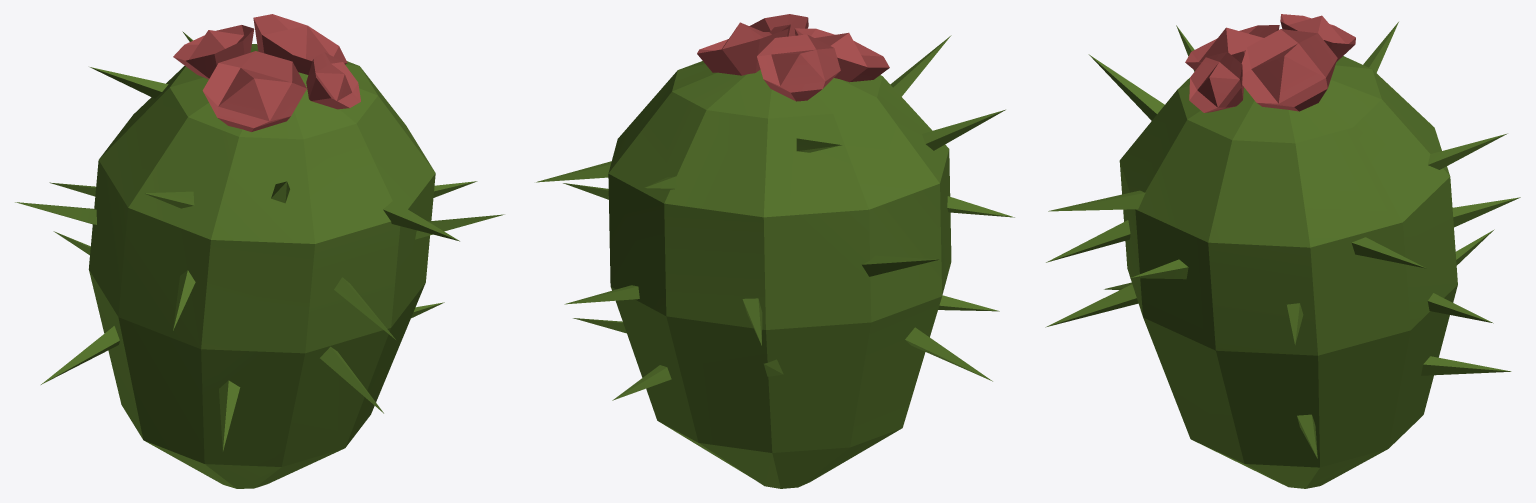
File: Desert_plant_012.glb
3 views of the same model, side by side, from view 1: azimuth 30°, elevation 25°; view 2: azimuth 150°, elevation 25°; view 3: azimuth 270°, elevation 25° (orthographic). The views are drawn at different scales.
Visible parts, largest first — view 1: Desert_plant_012; view 2: Desert_plant_012; view 3: Desert_plant_012.
Boxes of the visible parts, x1,y1,x2,y2 form: Desert_plant_012: (15, 14, 504, 488); Desert_plant_012: (536, 14, 1014, 488); Desert_plant_012: (1045, 14, 1520, 488).
Bounding box in the file's own units: 0.6726 × 0.6576 × 0.6303.
1 material, 1 textured.
